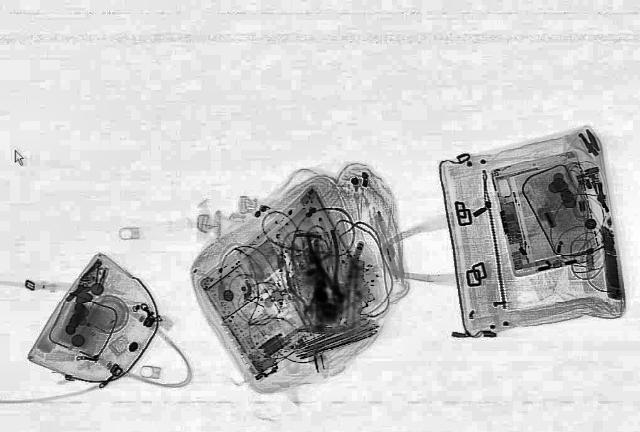Pliers: (303, 232, 352, 302), (282, 268, 328, 320)
